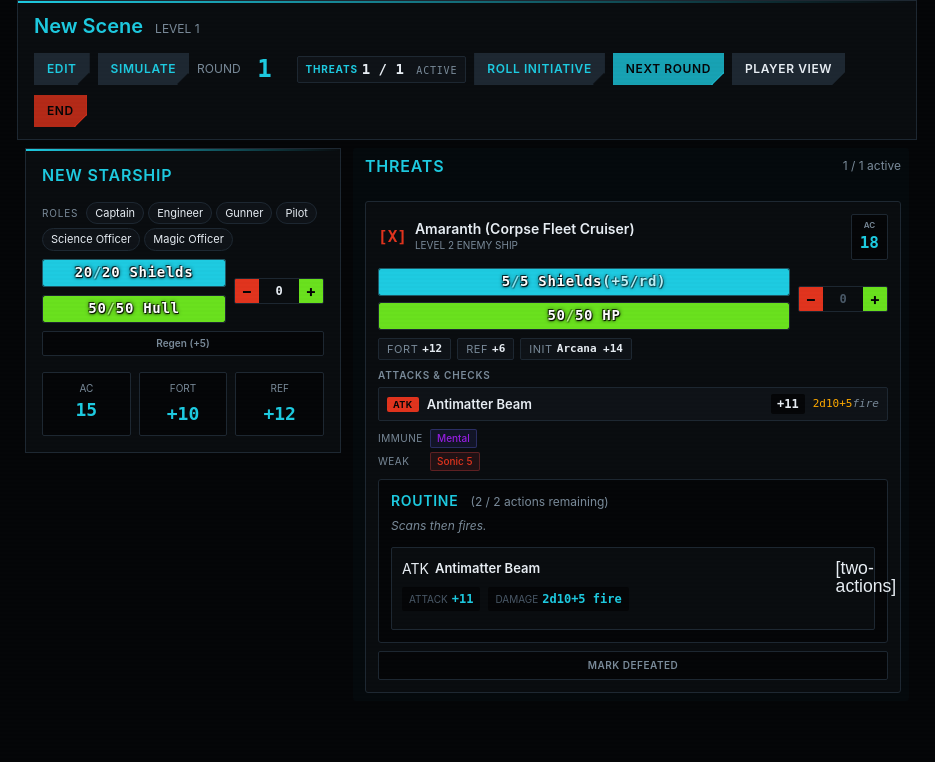
Test: GM-seat smoke test: StarshipPanel renders the running scene › shows a Skill Bonuses editor on the threat card in editing mode
This screenshot has width=935, height=762.
Click the button "Edit" at coordinates (62, 69), box [34,53,90,85]
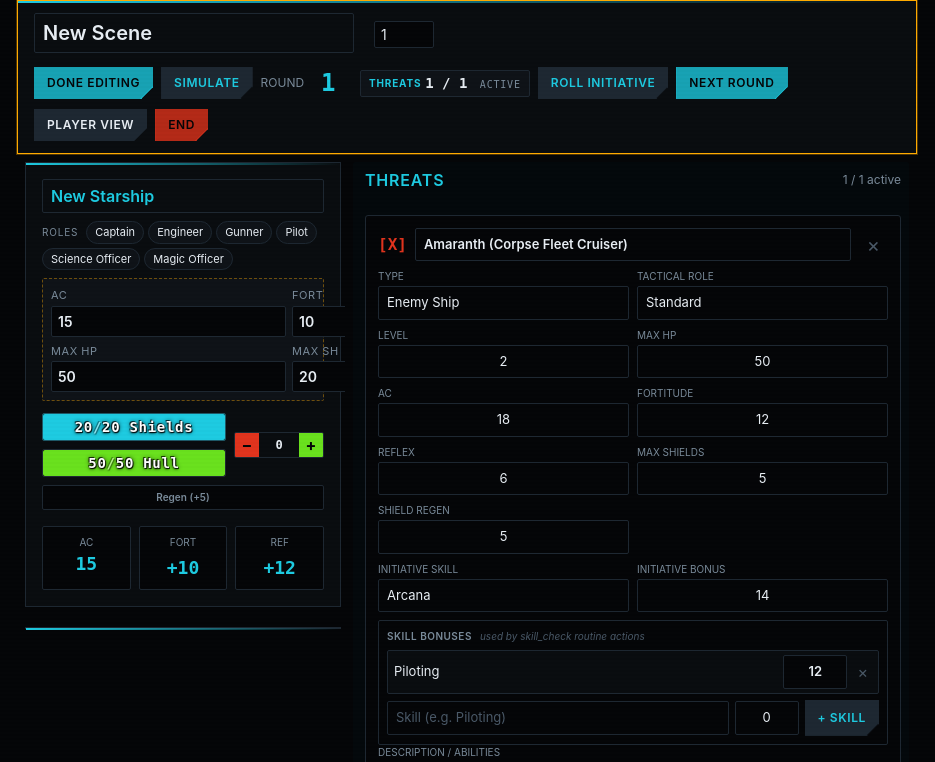
Result: the text "Skill Bonuses" is shown at [387,629,472,644]
Result: the text "Piloting" is shown at [394,663,440,679]
Result: the number field with class "skill-bonus-input" is shown at [783,655,847,689]
